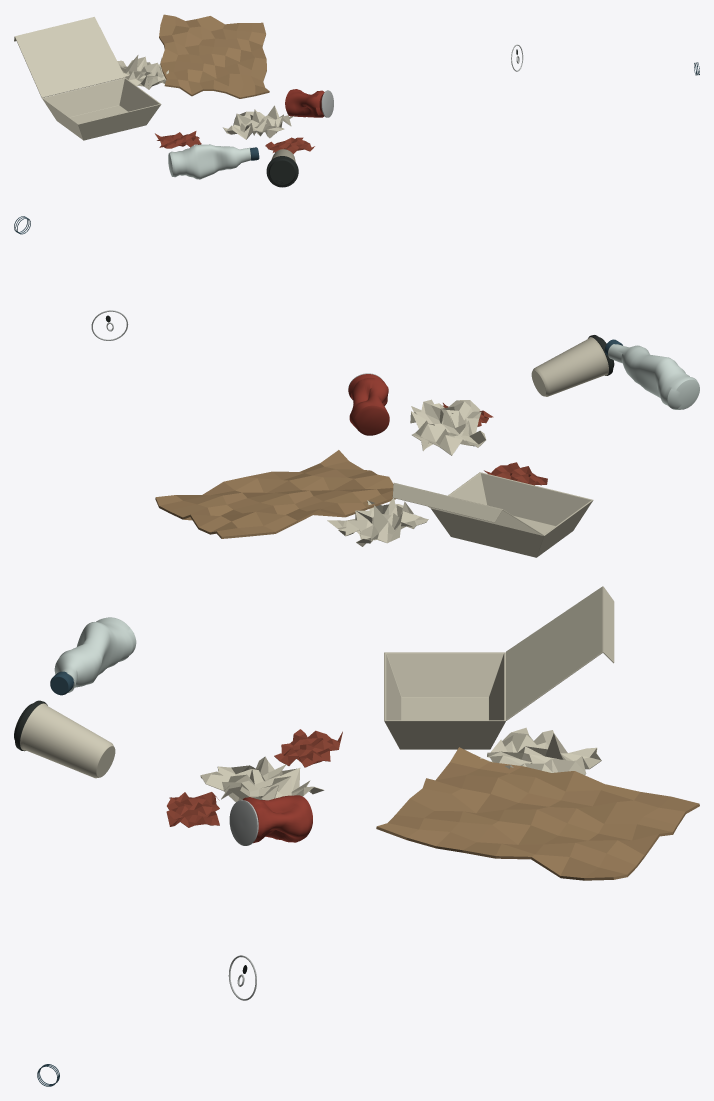
File: scattered trash.fbx
3 renders of one model, top to bottom at view 1: azimuth 30°, elevation 25°; view 2: azimuth 150°, elevation 25°; view 3: azimuth 270°, elevation 25°, orthographic. The views are drawn at different scales.
Parts seen in each view (by area): view 1: carton, cardboard, Scattered | empty bottle | screw cap, crumpled paper.001, Scattered | crushed red can | aluminum top, crumpled paper, Cup | separate black lid, Scattered | food wrapper 3, wraper 2; view 2: cardboard, carton, Scattered | empty bottle | screw cap, crumpled paper.001, Cup | separate black lid, crumpled paper, Scattered | crushed red can | aluminum top, Scattered | food wrapper 3; view 3: cardboard, carton, Cup | separate black lid, Scattered | empty bottle | screw cap, Scattered | crushed red can | aluminum top, crumpled paper, crumpled paper.001, Scattered | food wrapper 3, wraper 2.
Part boxes in pixels (x1,y1,x2,y2): carton: (14,17,161,140); cardboard: (159,14,269,98); Scattered | empty bottle | screw cap: (168,144,259,179); crumpled paper.001: (223,105,293,139); Scattered | crushed red can | aluminum top: (285,89,333,117); crumpled paper: (117,55,168,89); Cup | separate black lid: (266,149,298,187); Scattered | food wrapper 3: (155,131,201,148); wraper 2: (265,137,314,154); cardboard: (155,450,395,538); carton: (392,472,593,557); Scattered | empty bottle | screw cap: (604,339,699,409); crumpled paper.001: (410,399,486,455); Cup | separate black lid: (531,335,614,396); crumpled paper: (327,498,428,546); Scattered | crushed red can | aluminum top: (348,373,389,435); Scattered | food wrapper 3: (484,462,547,485); cardboard: (376,747,699,880); carton: (384,586,614,749); Cup | separate black lid: (14,700,115,778); Scattered | empty bottle | screw cap: (50,617,136,695); Scattered | crushed red can | aluminum top: (229,795,312,845); crumpled paper: (480,727,601,774); crumpled paper.001: (200,756,324,801); Scattered | food wrapper 3: (274,729,342,767); wraper 2: (166,792,219,827).
Bounding box in the file's own units: 141 × 16.08 × 95.32.
